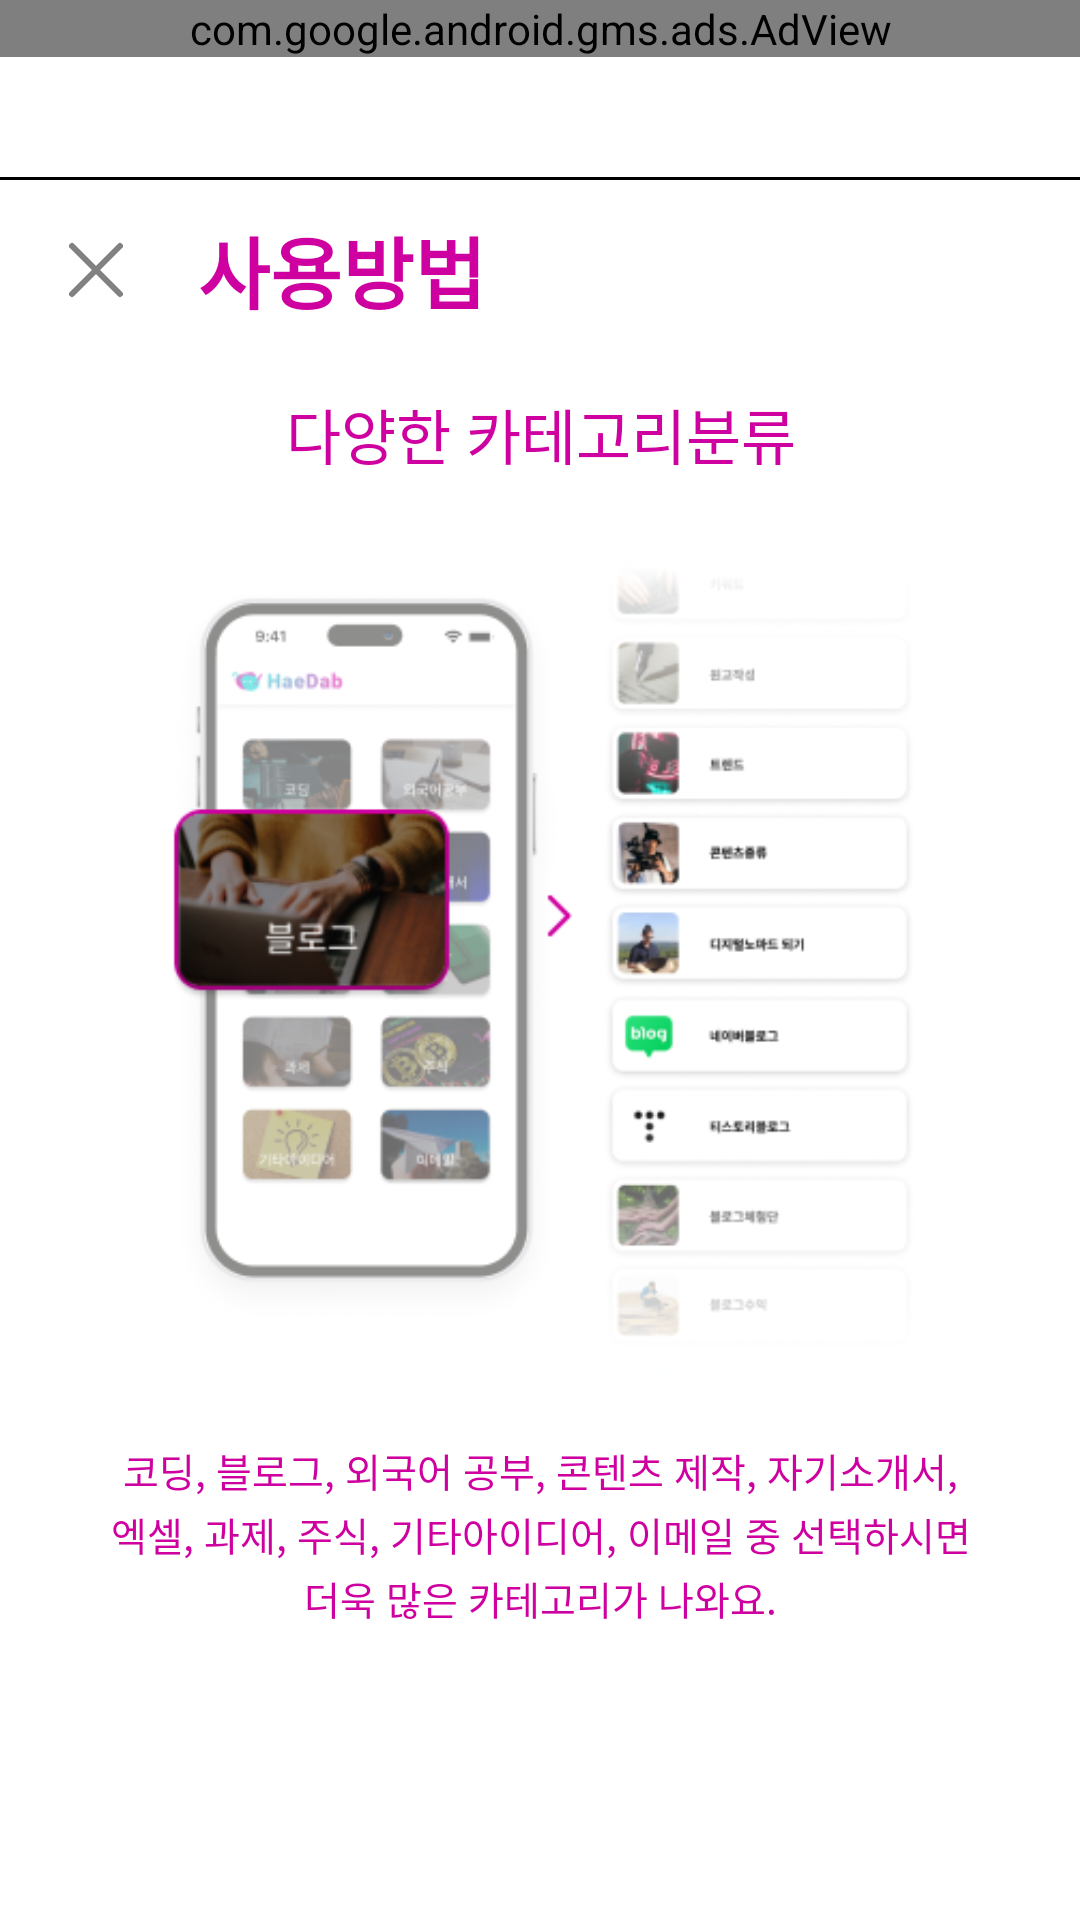

Icon click points for this 1080×1920 phone screenshot, format (x,y):
end: (96,270)
